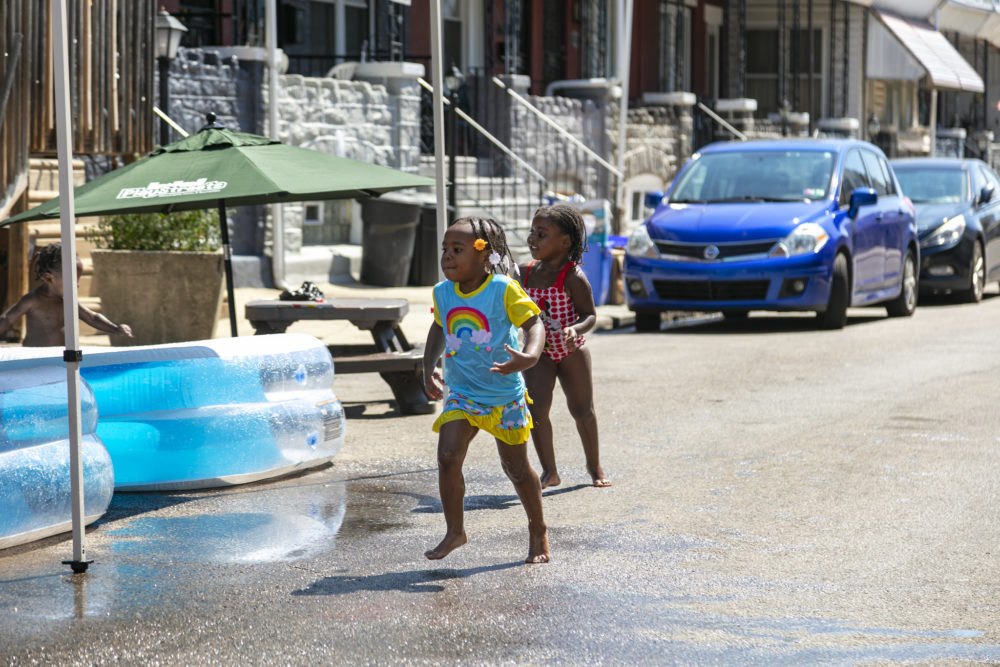Car: (625, 129, 929, 348)
Person: (422, 209, 552, 572), (510, 197, 623, 499)
